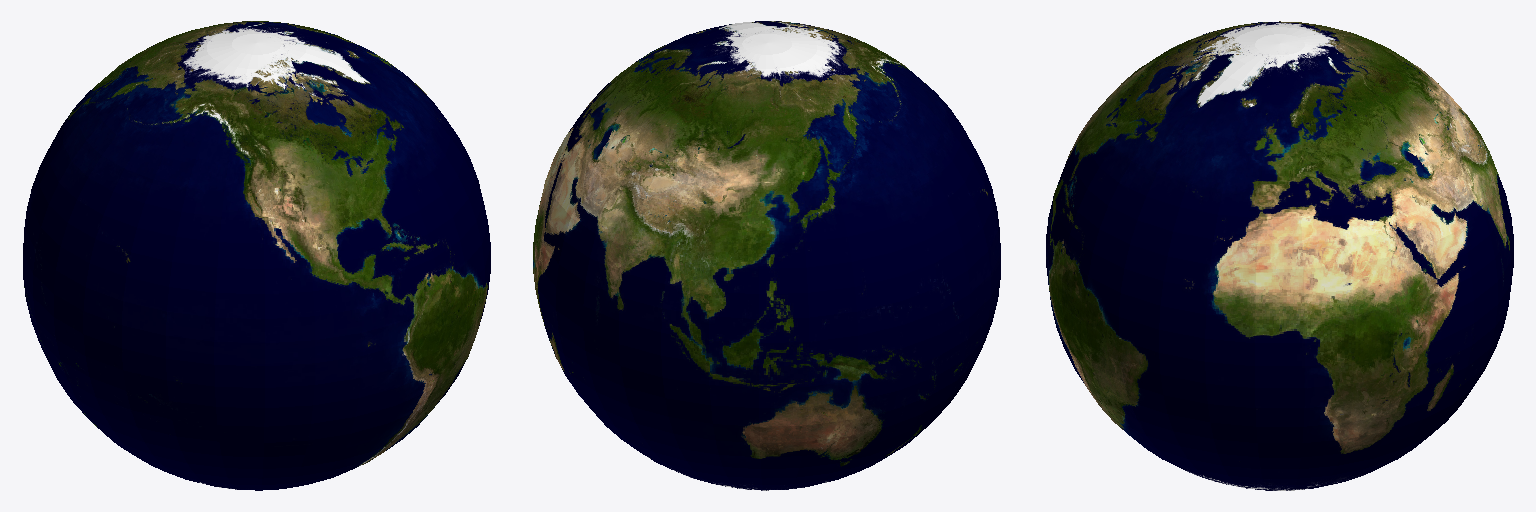
3 renders of one model, left to right at view 1: azimuth 30°, elevation 25°; view 2: azimuth 150°, elevation 25°; view 3: azimuth 270°, elevation 25°, orthographic.
Visible parts, largest first — view 1: Grid; view 2: Grid; view 3: Grid.
Part boxes in pixels (x1,y1,x2,y2): Grid: (23,21,490,490); Grid: (533,21,1000,490); Grid: (1046,21,1513,490).
Bounding box in the file's own units: 1.99 × 2 × 1.99.
1 materials, 1 textured.